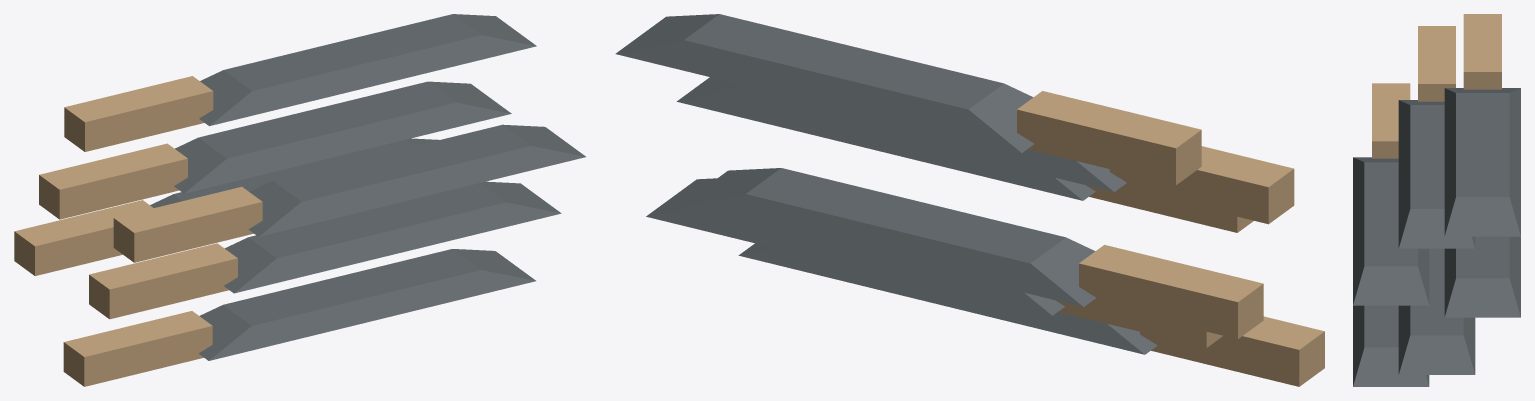
Rendered from item_004_flint_blade_l.glb.
The picture shows the model from 3 angles, left to right: view 1: azimuth 30°, elevation 25°; view 2: azimuth 150°, elevation 25°; view 3: azimuth 270°, elevation 25°; orthographic projection. The views are drawn at different scales.
Visible parts, largest first — view 1: item_004_flint_blade_l; view 2: item_004_flint_blade_l; view 3: item_004_flint_blade_l.
Boxes of the visible parts, x1,y1,x2,y2 form: item_004_flint_blade_l: [14, 14, 585, 386]; item_004_flint_blade_l: [615, 14, 1324, 386]; item_004_flint_blade_l: [1353, 14, 1520, 386].
Size of the model in its own units: 0.69 by 0.29 by 0.22.
